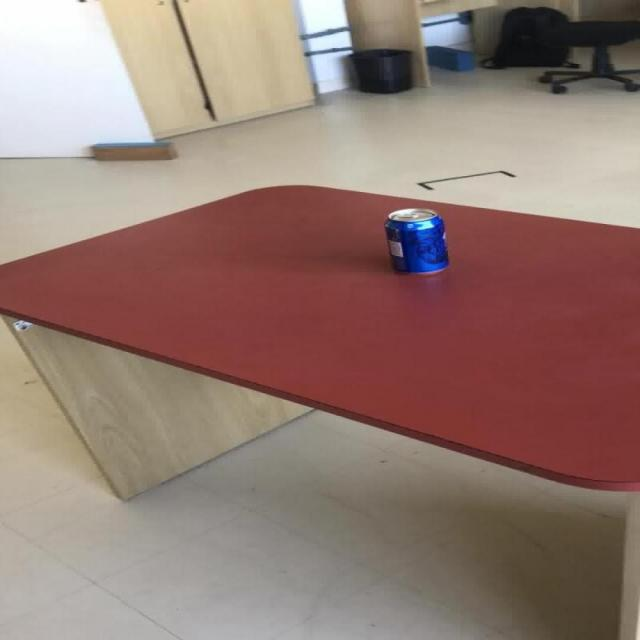Tonic: (382, 207, 449, 275)
